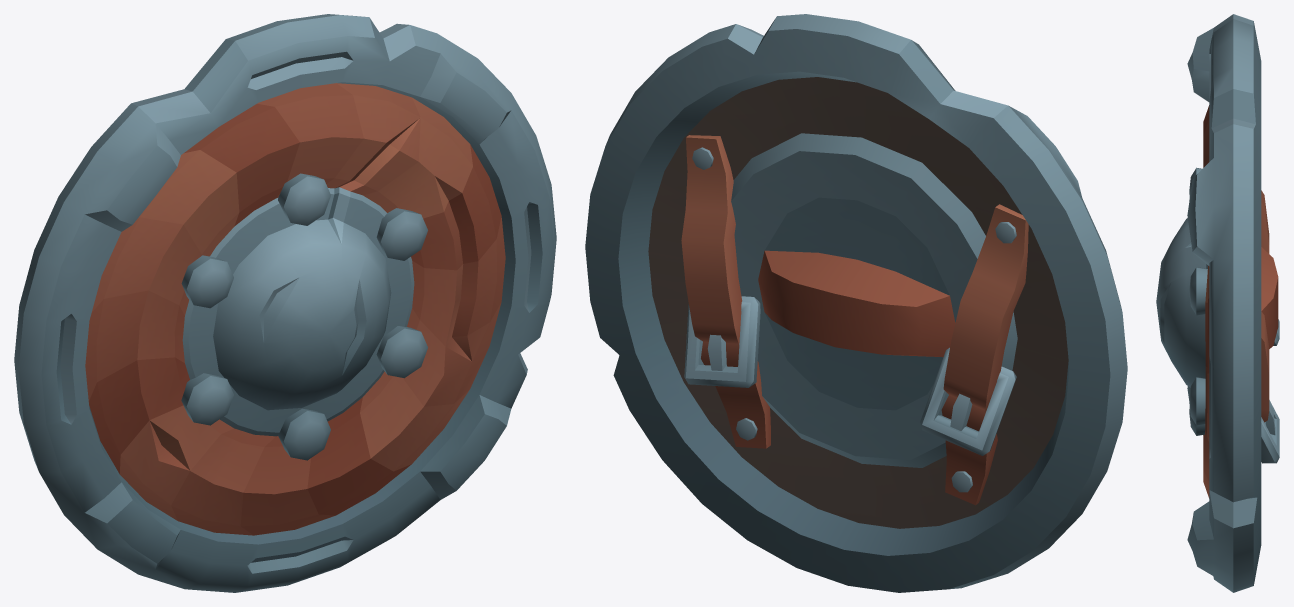
File: kk_mystery5_blackknight_shield_large.glb
3 views of the same model, side by side, from view 1: azimuth 30°, elevation 25°; view 2: azimuth 150°, elevation 25°; view 3: azimuth 270°, elevation 25° (orthographic). The views are drawn at different scales.
Visible parts, largest first — view 1: BlackKnight_Shield_Large; view 2: BlackKnight_Shield_Large; view 3: BlackKnight_Shield_Large.
Boxes of the visible parts, x1=… form: BlackKnight_Shield_Large: x1=14, y1=14, x2=556, y2=592; BlackKnight_Shield_Large: x1=585, y1=14, x2=1127, y2=592; BlackKnight_Shield_Large: x1=1156, y1=14, x2=1279, y2=592.
Bounding box in the file's own units: 2.49 × 2.49 × 0.5275.
1 material, 1 textured.
